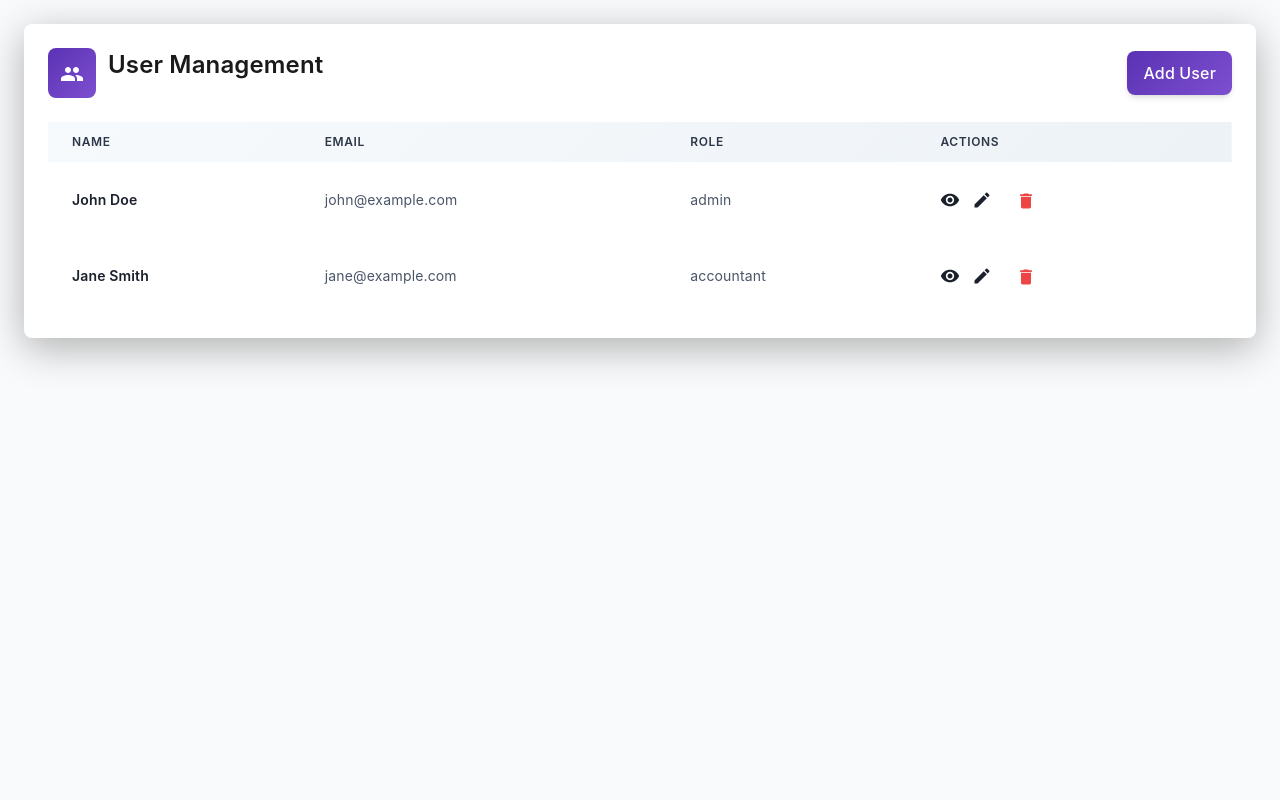
Test: Users › closes add user modal when Cancel is clicked
Click the button "Add User".
click(1180, 73)  # box [1128,51,1232,95]
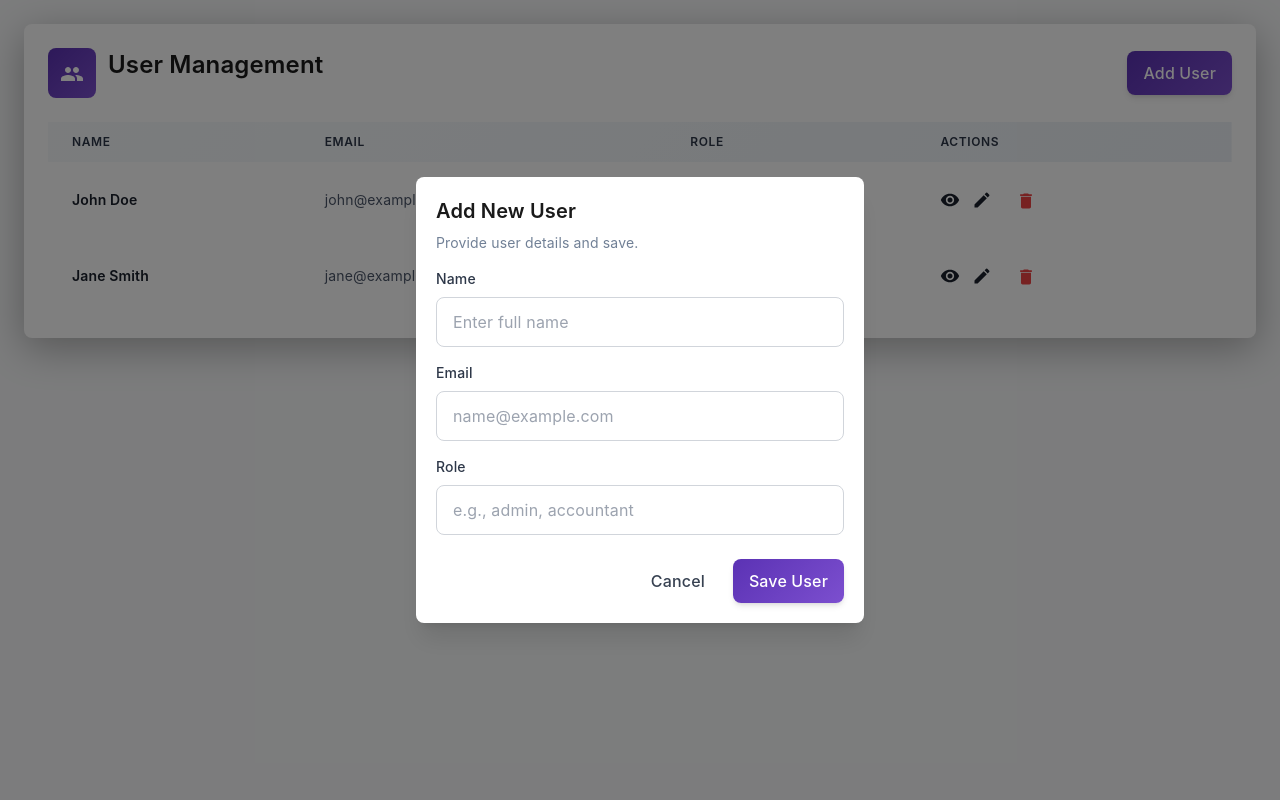
Check: the heading "Add New User" is shown, box [436,199,576,223]
Click the button "Cancel".
click(678, 581)  # box [635,559,721,603]
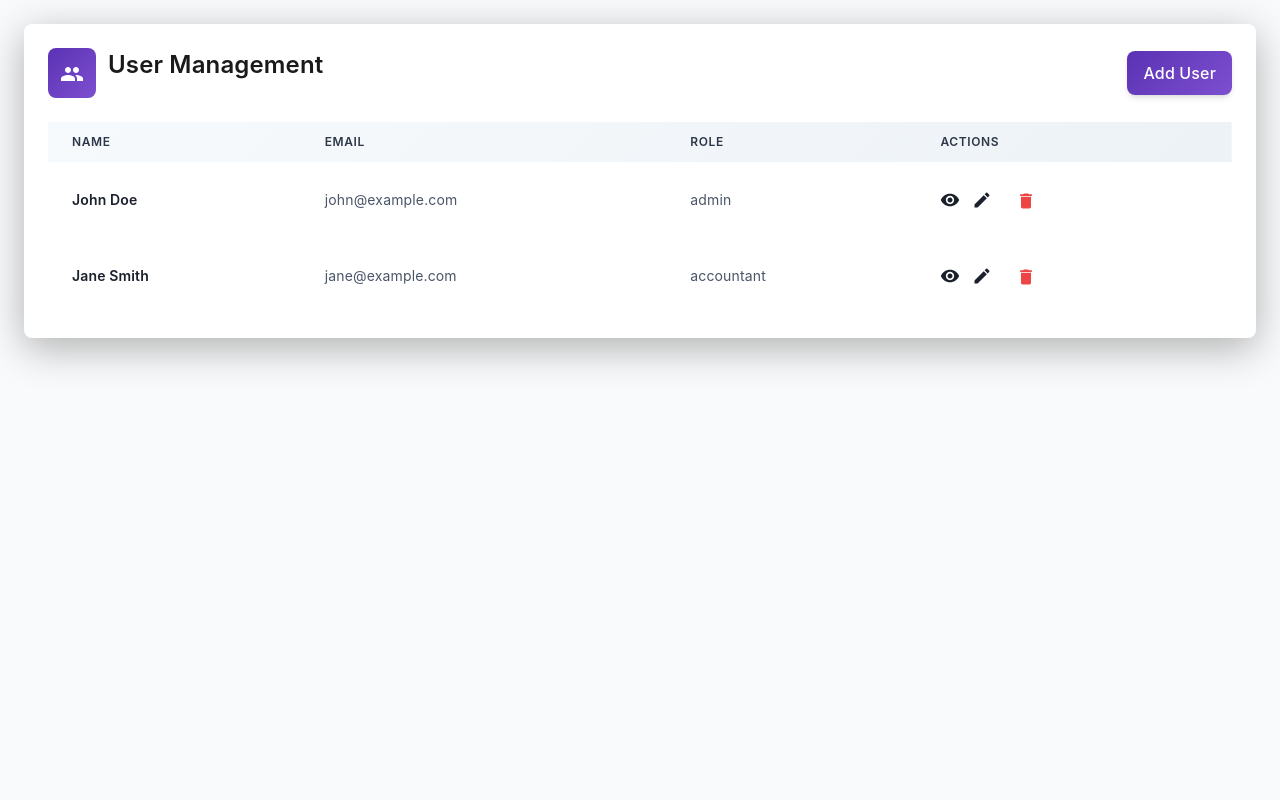
Check: the heading "Add New User" is gone
